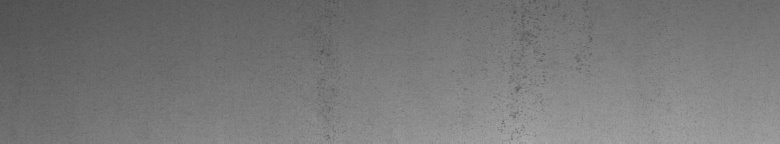ib: (498, 4, 593, 132)
